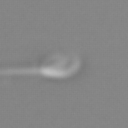normal: (1, 62, 41, 81)
